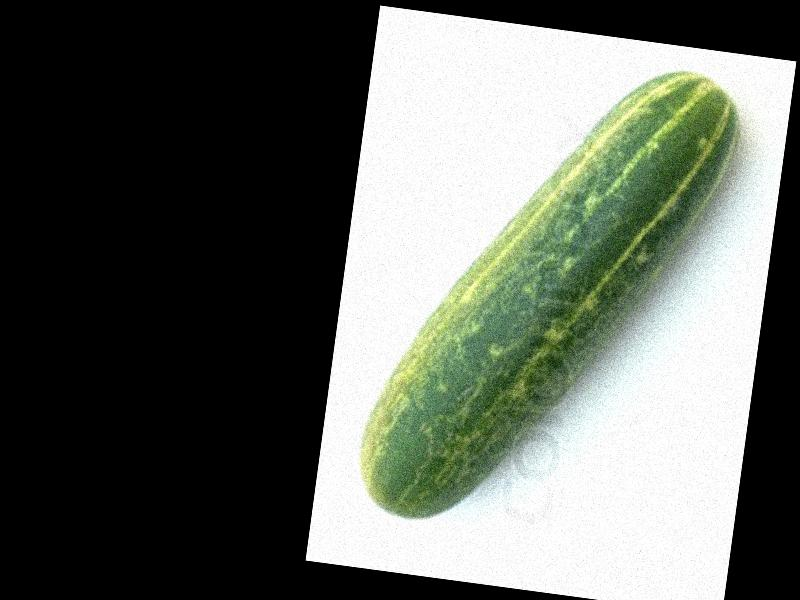Cucumber: (350, 32, 744, 553)
